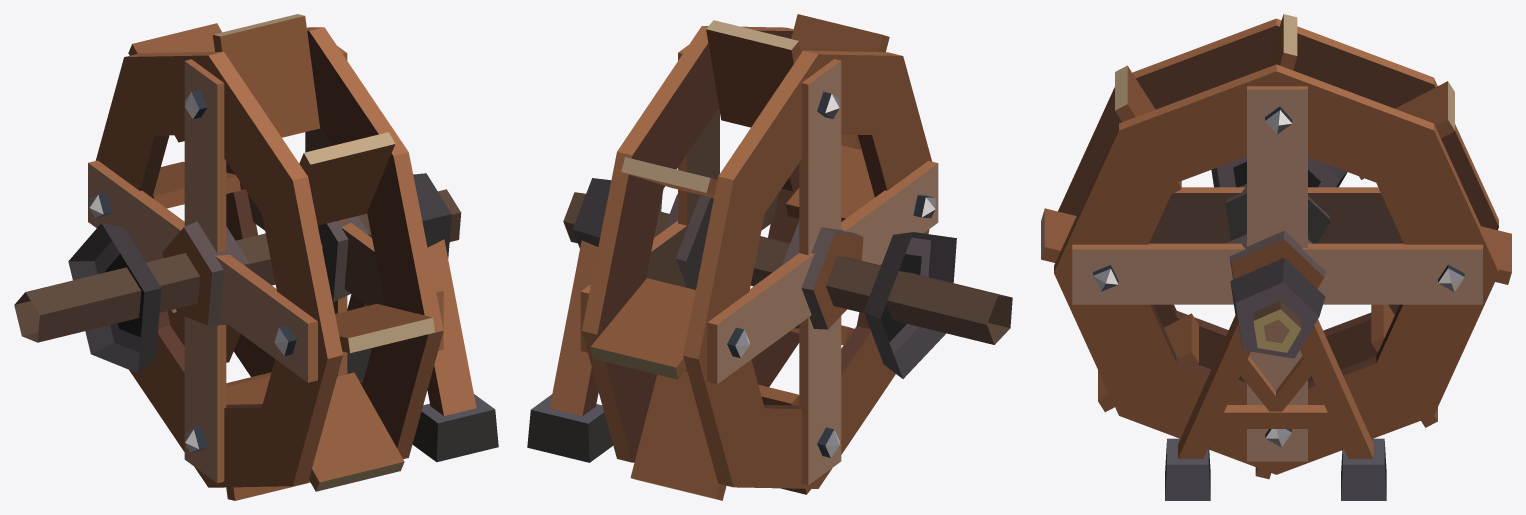
The model's file is TB_Bd_Waterwheel.FBX.
The picture shows the model from 3 angles, left to right: view 1: azimuth 30°, elevation 25°; view 2: azimuth 150°, elevation 25°; view 3: azimuth 270°, elevation 25°; orthographic projection. The views are drawn at different scales.
Parts seen in each view (by area): view 1: TB_Bd_Waterwheel, TB_Bd_WaterwheelAxis; view 2: TB_Bd_Waterwheel, TB_Bd_WaterwheelAxis; view 3: TB_Bd_Waterwheel, TB_Bd_WaterwheelAxis.
Boxes of the visible parts, left/top/right/bottom form: TB_Bd_Waterwheel: left=14, top=14, right=461, bottom=500; TB_Bd_WaterwheelAxis: left=68, top=173, right=498, bottom=462; TB_Bd_Waterwheel: left=563, top=14, right=1012, bottom=500; TB_Bd_WaterwheelAxis: left=527, top=178, right=956, bottom=462; TB_Bd_Waterwheel: left=1041, top=14, right=1511, bottom=479; TB_Bd_WaterwheelAxis: left=1165, top=156, right=1386, bottom=500.
Bounding box in the file's own units: 6.3 × 6.53 × 6.53.
